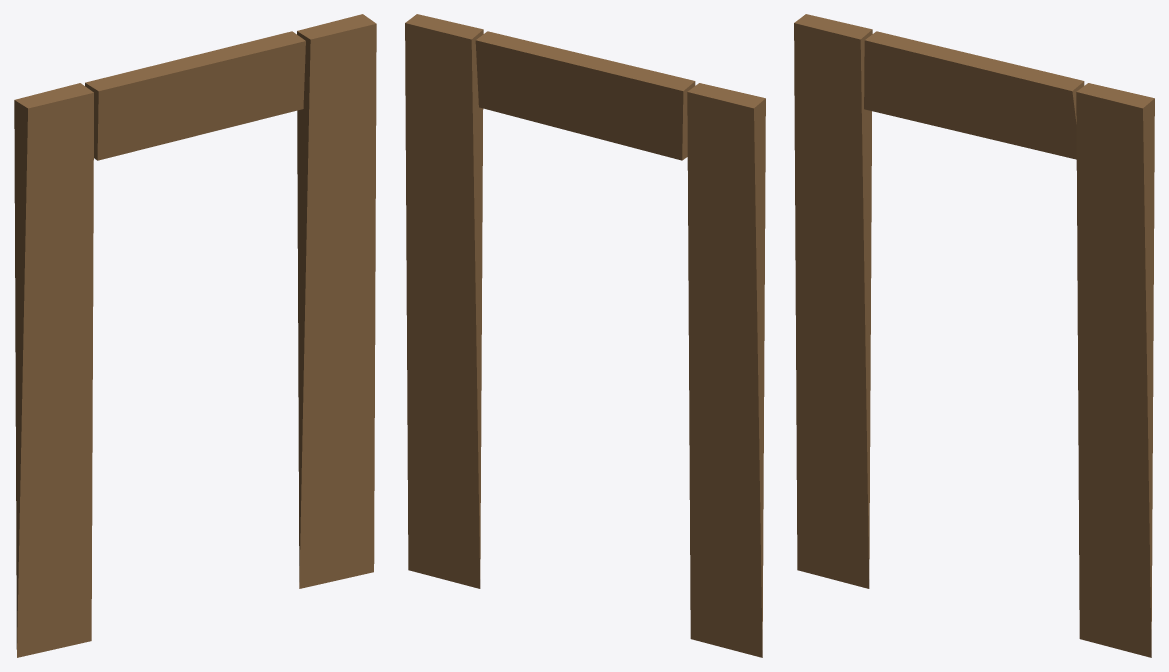
Rendered from harbor-doorway.lod2.glb.
3 views of the same model, side by side, from view 1: azimuth 30°, elevation 25°; view 2: azimuth 150°, elevation 25°; view 3: azimuth 330°, elevation 25° (orthographic).
Visible parts, largest first — view 1: harbor-doorway__body; view 2: harbor-doorway__body; view 3: harbor-doorway__body.
Part boxes in pixels (x1,y1,x2,y2): harbor-doorway__body: (14,14,376,657); harbor-doorway__body: (405,14,765,657); harbor-doorway__body: (794,14,1154,657).
Bounding box in the file's own units: 2.02 × 3 × 0.1292.
